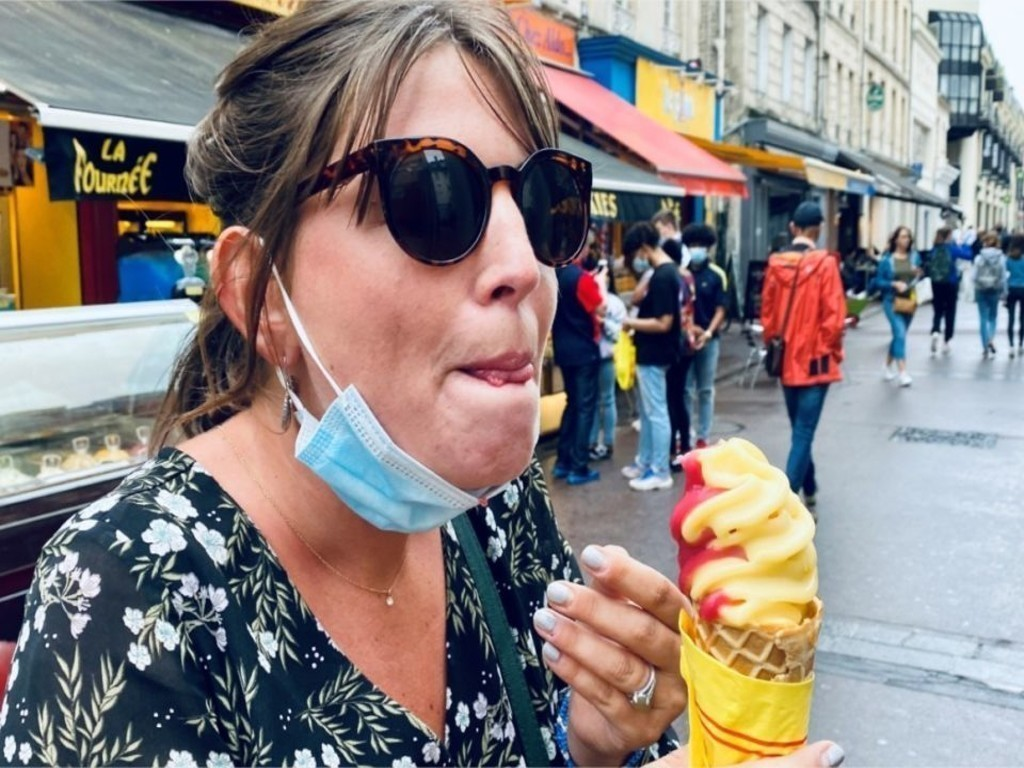with_incorrect_mask: (334, 123, 535, 518)
